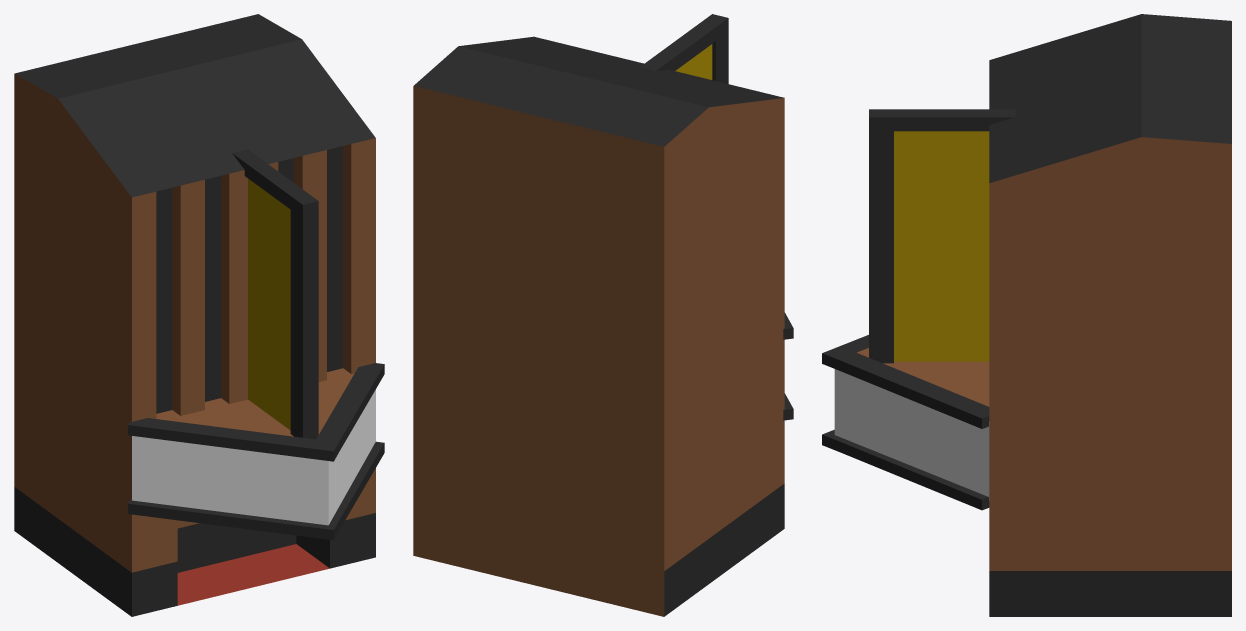
File: JazzCinema1.obj
3 renders of one model, left to right at view 1: azimuth 30°, elevation 25°; view 2: azimuth 150°, elevation 25°; view 3: azimuth 270°, elevation 25°, orthographic. The views are drawn at different scales.
Visible parts, largest first — view 1: KinoJazzDONE; view 2: KinoJazzDONE; view 3: KinoJazzDONE.
Boxes of the visible parts, bbox=[...] form: KinoJazzDONE: bbox=[14, 14, 384, 616]; KinoJazzDONE: bbox=[413, 14, 793, 616]; KinoJazzDONE: bbox=[822, 14, 1231, 616].
Size of the model in its own units: 6.28 by 10.9 by 8.44.
